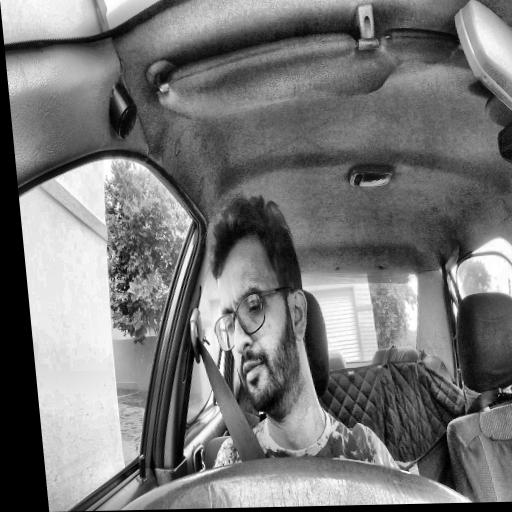awake: (202, 192, 318, 416)
